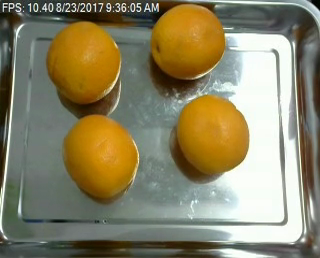Orange: (63, 114, 140, 199), (46, 21, 122, 103), (174, 94, 249, 174), (150, 5, 226, 80)
